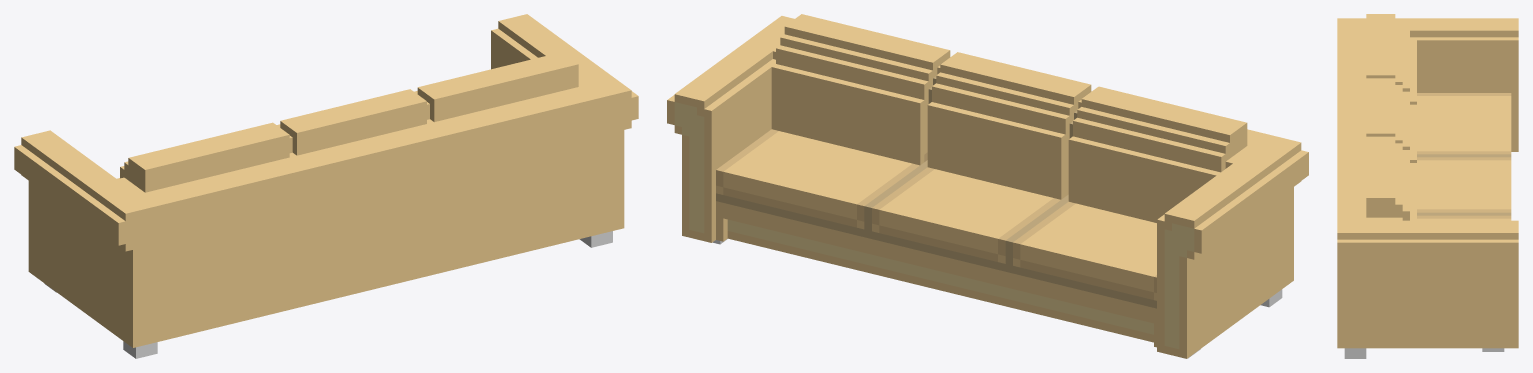
Rendered from sofa_0_lev1_lev3.glb.
3 views of the same model, side by side, from view 1: azimuth 30°, elevation 25°; view 2: azimuth 150°, elevation 25°; view 3: azimuth 270°, elevation 25° (orthographic). The views are drawn at different scales.
Visible parts, largest first — view 1: sofa_0_lev1_lev3; view 2: sofa_0_lev1_lev3; view 3: sofa_0_lev1_lev3.
Part boxes in pixels (box(x1,y1,x2,y2)): sofa_0_lev1_lev3: box(14, 14, 638, 358); sofa_0_lev1_lev3: box(667, 14, 1308, 358); sofa_0_lev1_lev3: box(1337, 14, 1518, 358).
Size of the model in its own units: 5.38 by 1.72 by 1.87.
Materials: 1 (1 with a texture image).
